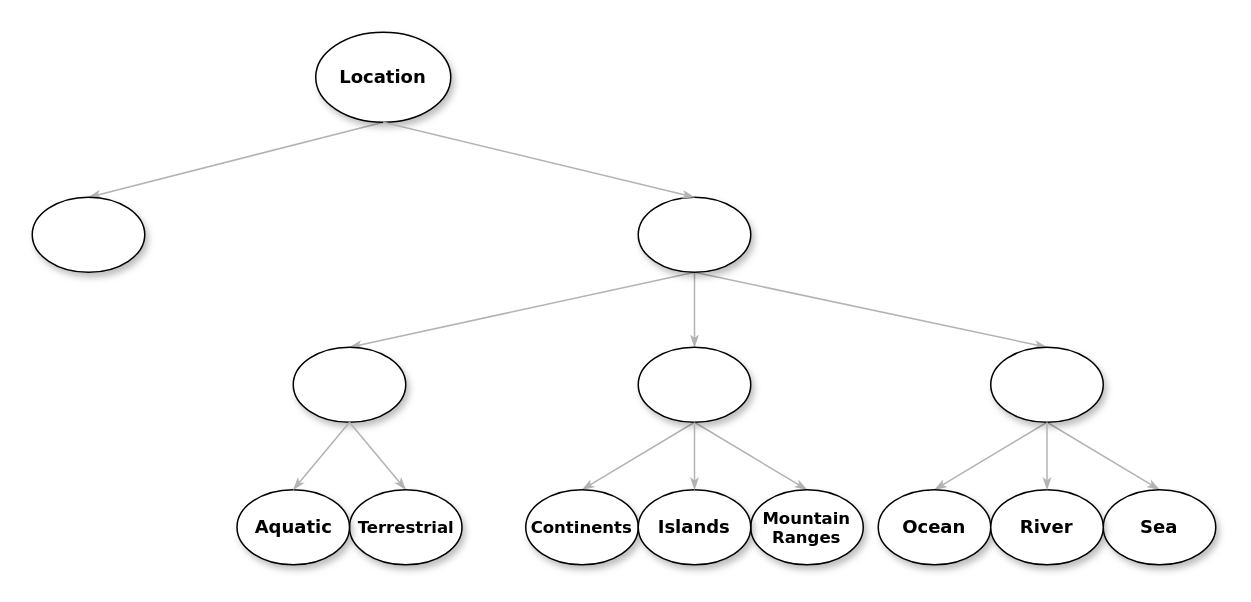
This 1251x602 diagram has some shape labels left out. Each missing label, with the centre of its shape:
Biomes: (x=350, y=386)
Countries: (x=89, y=236)
Georgaphy: (x=695, y=236)
Land: (x=695, y=386)
Water: (x=1047, y=386)
